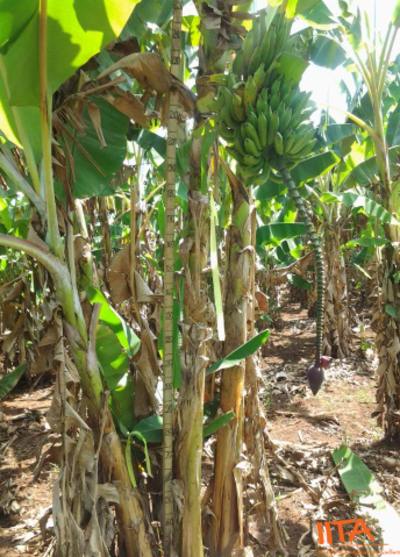bananaHand: (211, 9, 315, 186)
